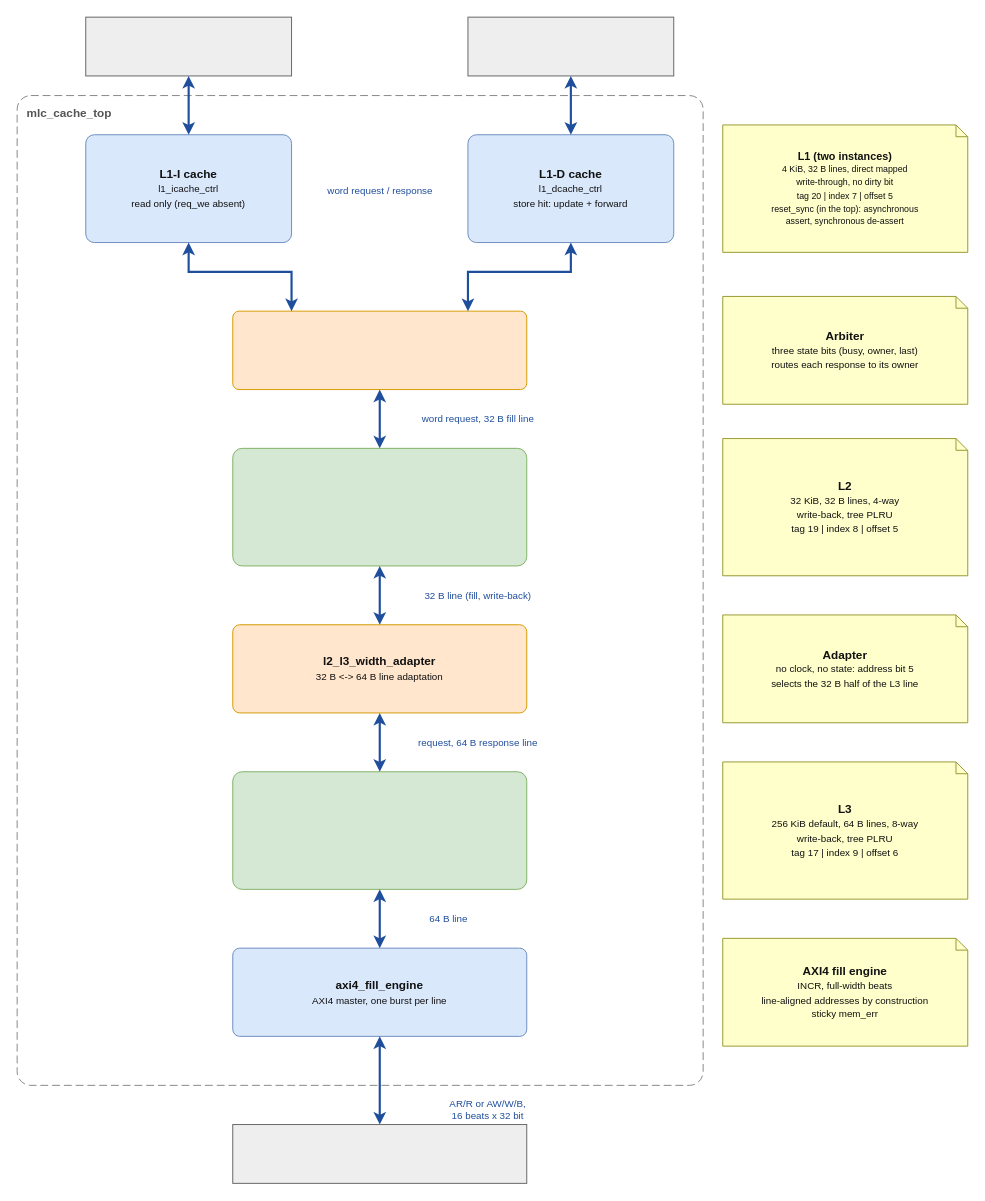
This 985x1201 diagram has some shape labels left out. The centre of each missing label's shape, as x and y in pixels:
"AXI4 memory m_axi_*" belongs at point (379, 1153).
"CPU fetch port i_req_* / i_resp_*" belongs at point (188, 46).
"CPU load / store port d_req_* / d_resp_*" belongs at point (570, 46).
"l1_l2_arbiter round robin, one outstanding read" belongs at point (379, 350).
"L2 cache l2_cache_ctrl + plru_tree unified, write-back" belongs at point (379, 506).
"L3 cache l3_cache_ctrl (= l2_cache_ctrl at L3 parameters) write-back" belongs at point (379, 830).
